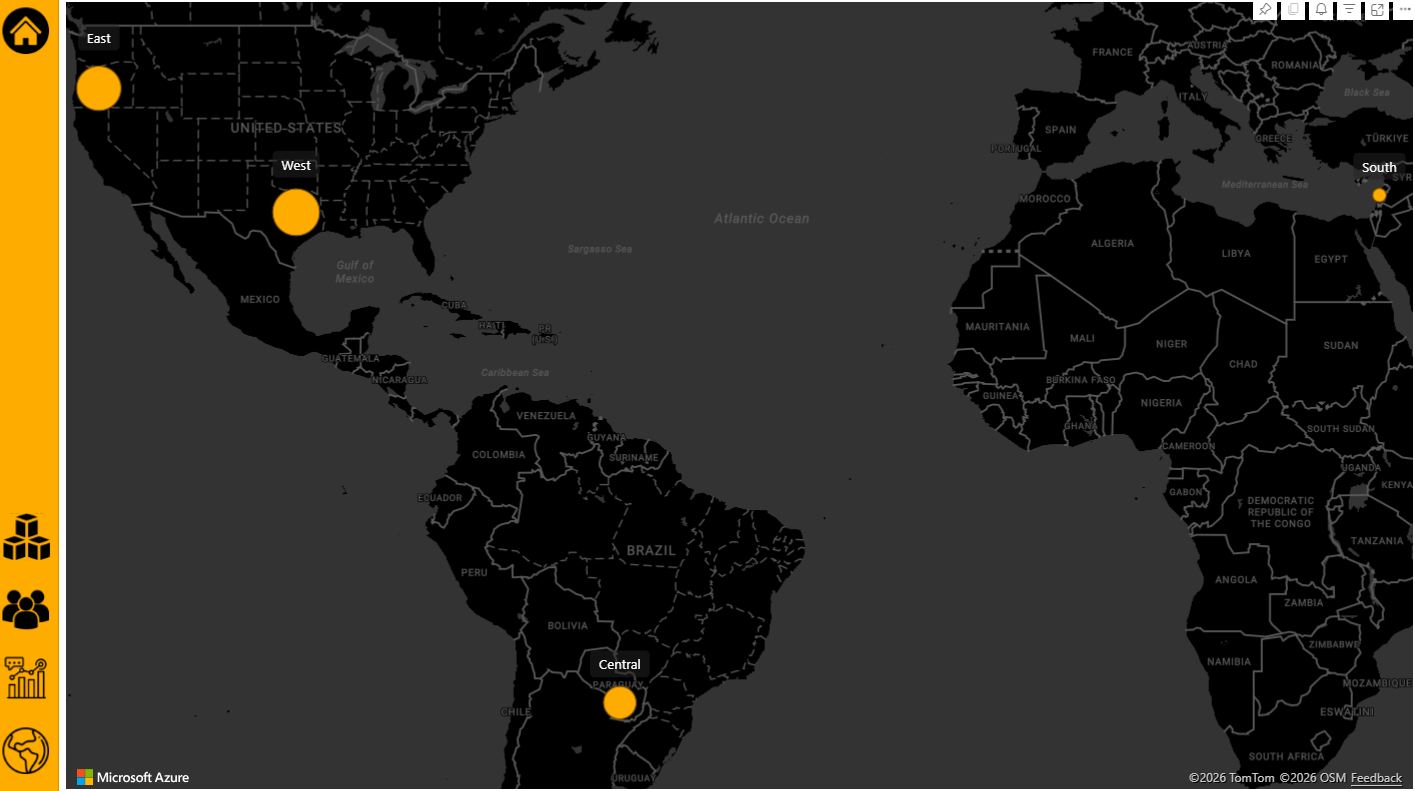

What the dashboard file says about the page in this screenshot:
{"tool":"powerbi","page":{"name":"Map Visual","canvas":[1280,720],"ordinal":4},"visuals":[{"type":"shape","box":[0,0,55.5,720],"z":0,"group":"g1"},{"type":"azureMap","fields":{"Size":["Table.Total Sales"],"Category":["Superstore.Region"]},"box":[55.5,0,1224.2,720],"z":0},{"type":"group","id":"g1","title":"Group 1","box":[0,0,55.5,720],"z":1000},{"type":"actionButton","box":[0,528.2,54.5,50],"z":1000,"group":"g1"},{"type":"actionButton","box":[0,655.5,54.6,50.1],"z":2000,"group":"g1"},{"type":"actionButton","box":[0,6,55,50],"z":3000,"group":"g1"},{"type":"actionButton","box":[0.9,462.7,54.5,50],"z":4000,"group":"g1"},{"type":"actionButton","box":[0,589.1,54.5,50],"z":13001,"group":"g1"}]}

Visuals, with their boxes in screenshot pixels (x1, y1, x2, y2):
shape: box=[4, 0, 64, 781]
azureMap - Table.Total Sales x Superstore.Region: box=[64, 0, 1392, 781]
"Group 1" group: box=[4, 0, 64, 781]
actionButton: box=[4, 573, 63, 627]
actionButton: box=[4, 711, 63, 766]
actionButton: box=[4, 7, 63, 61]
actionButton: box=[5, 502, 64, 556]
actionButton: box=[4, 639, 63, 694]
